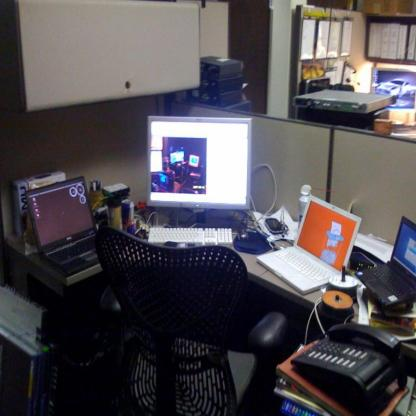board: (256, 195, 362, 296), (24, 174, 101, 276), (354, 215, 415, 311), (121, 198, 135, 234)
